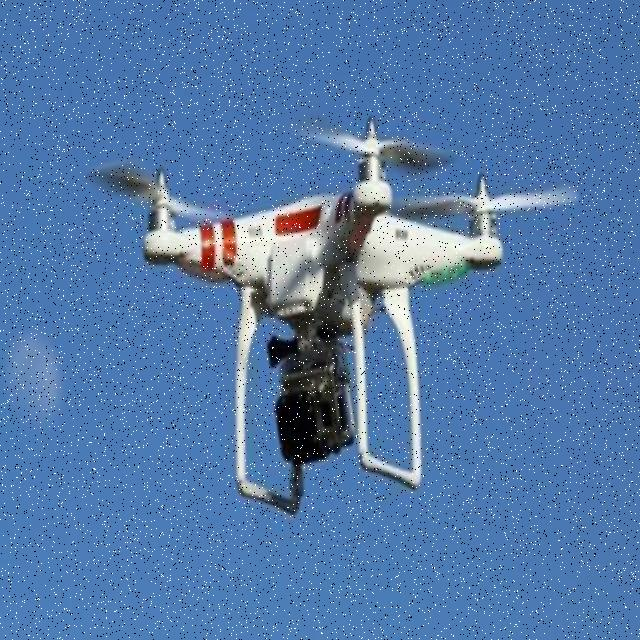UAV: (139, 120, 508, 527)
